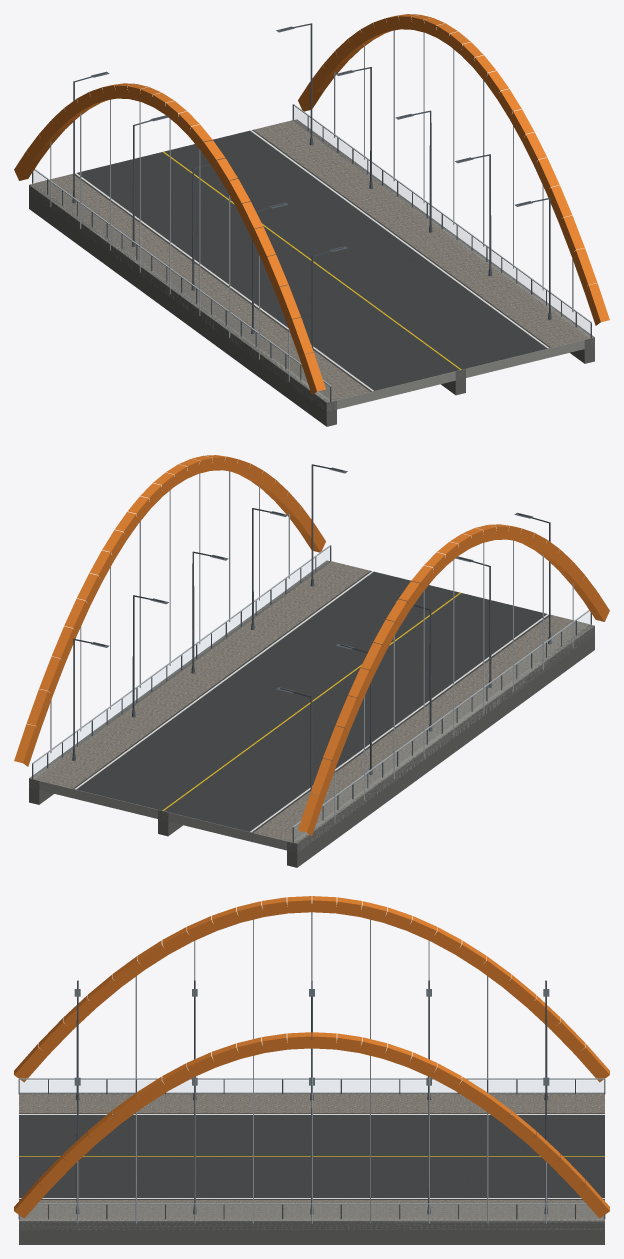
File: villa-bridge.glb
3 views of the same model, one above another, from view 1: azimuth 30°, elevation 25°; view 2: azimuth 150°, elevation 25°; view 3: azimuth 270°, elevation 25° (orthographic).
Parts seen in each view (by area): view 1: Road, Props, Sidewalk, ShopGlass; view 2: Road, Props, Sidewalk, ShopGlass; view 3: Props, Road, Sidewalk, ShopGlass.
Part boxes in pixels (box(x1,y1,x2,y2)): Road: box(75, 130, 550, 391); Props: box(14, 14, 609, 426); Sidewalk: box(34, 120, 589, 401); ShopGlass: box(34, 107, 589, 398); Road: box(73, 571, 548, 832); Props: box(14, 455, 609, 867); Sidewalk: box(34, 561, 589, 842); ShopGlass: box(34, 548, 589, 839); Props: box(14, 896, 609, 1244); Road: box(19, 1113, 604, 1199); Sidewalk: box(19, 1094, 604, 1218); ShopGlass: box(20, 1081, 603, 1217).
Bounding box in the file's own units: 22.7 × 16.15 × 40.7.
5 materials, 4 textured.
